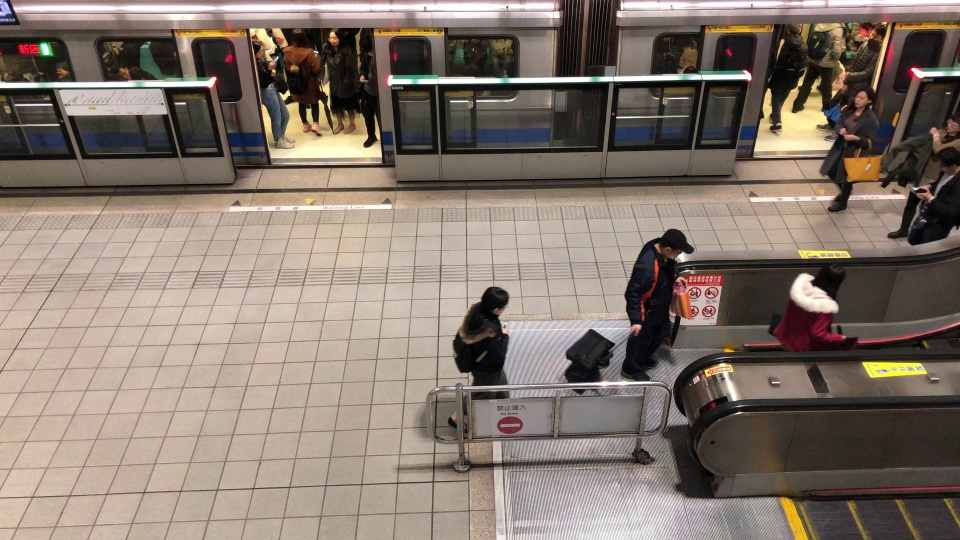person_head: (811, 259, 847, 298), (658, 227, 695, 261), (476, 286, 512, 320), (935, 146, 959, 178), (286, 29, 313, 52), (853, 87, 875, 112), (868, 22, 888, 46), (942, 113, 958, 136), (248, 39, 265, 60), (362, 35, 376, 60), (783, 22, 802, 37), (325, 30, 341, 47), (824, 16, 840, 30)
person_vbox: (619, 227, 696, 382), (445, 285, 515, 433), (883, 113, 960, 242), (816, 21, 888, 134), (823, 85, 883, 215), (764, 258, 847, 351), (244, 39, 296, 151), (757, 23, 807, 135), (794, 16, 845, 118), (278, 28, 325, 138), (914, 146, 960, 251), (315, 28, 359, 133), (355, 35, 385, 150)
